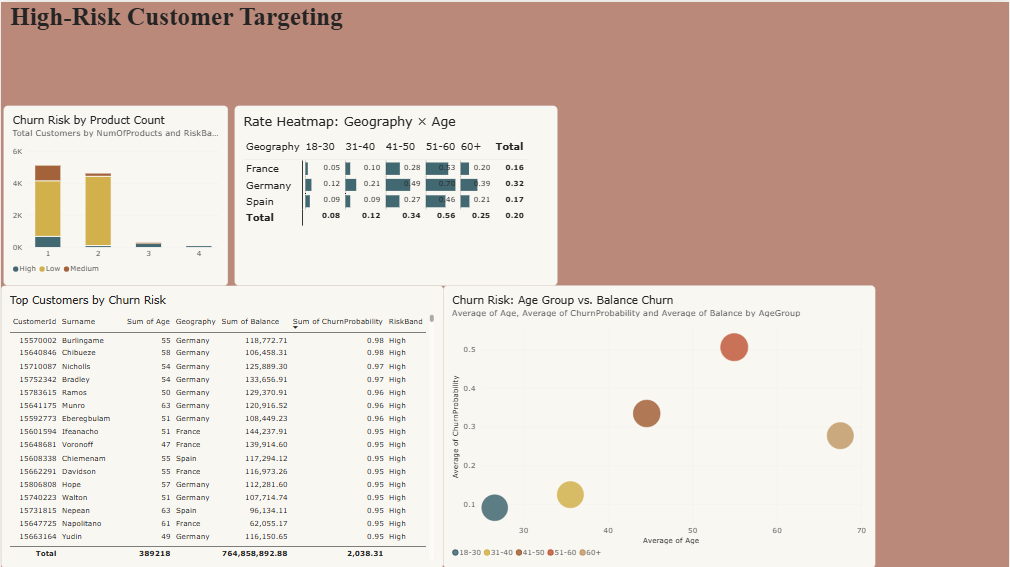

This screenshot's page, from the dashboard's own definition file:
{"tool":"powerbi","page":{"name":"Risk Targeting","canvas":[1920,1080],"ordinal":1},"visuals":[{"type":"columnChart","title":"Churn Risk by Product Count","fields":{"Category":["churn_predictions.NumOfProducts"],"Series":["churn_predictions.RiskBand"],"Y":["churn_predictions.Total Customers"]},"box":[5,197.5,427.5,342.5],"z":0},{"type":"pivotTable","title":"Rate Heatmap: Geography × Age","fields":{"Columns":["churn_predictions.AgeGroup"],"Rows":["churn_predictions.Geography"],"Values":["churn_predictions.Churn Rate"]},"box":[445,197.5,615,342.5],"z":1},{"type":"tableEx","title":"Top Customers by Churn Risk","fields":{"Values":["churn_predictions.CustomerId","churn_predictions.Surname","Sum(churn_predictions.Age)","churn_predictions.Geography","Sum(churn_predictions.Balance)","Sum(churn_predictions.ChurnProbability)","churn_predictions.RiskBand"]},"box":[0,540,842.5,540],"z":3},{"type":"scatterChart","title":"Churn Risk: Age Group vs. Balance Churn ","fields":{"Series":["churn_predictions.AgeGroup"],"Size":["Avg(churn_predictions.Balance)"],"X":["Avg(churn_predictions.Age)"],"Y":["Avg(churn_predictions.ChurnProbability)"]},"box":[842.5,540,822.5,540],"z":4},{"type":"textbox","box":[17.5,0,702.5,97.5],"z":5}]}

Visuals, with their boxes in screenshot pixels (x1, y1, x2, y2), scaled from the page's 1920x1080 canvas onto the 1010x567 screenshot:
"Churn Risk by Product Count" columnChart: <bbox>3, 104, 228, 284</bbox>
"Rate Heatmap: Geography × Age" pivotTable: <bbox>234, 104, 558, 284</bbox>
"Top Customers by Churn Risk" tableEx: <bbox>0, 284, 443, 566</bbox>
"Churn Risk: Age Group vs. Balance Churn " scatterChart: <bbox>443, 284, 876, 566</bbox>
textbox: <bbox>9, 0, 379, 51</bbox>
